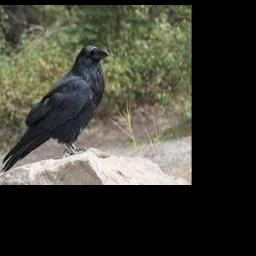Crow: (2, 45, 110, 173)
